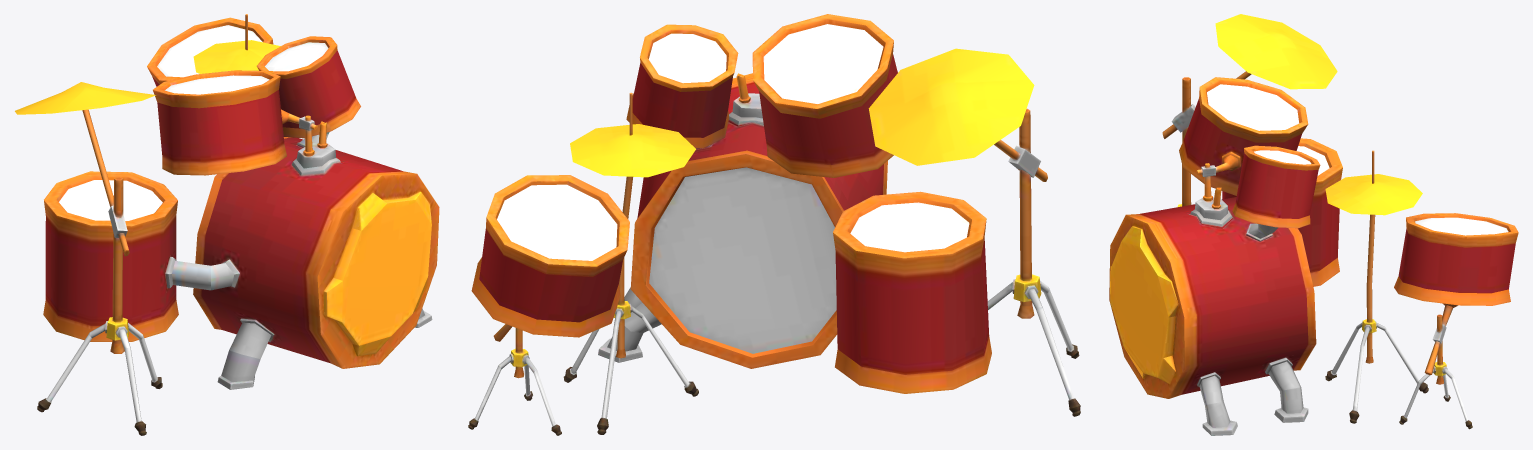
Rendered from obj_drums01_base.gltf.
The picture shows the model from 3 angles, left to right: view 1: azimuth 30°, elevation 25°; view 2: azimuth 150°, elevation 25°; view 3: azimuth 270°, elevation 25°; orthographic projection. The views are drawn at different scales.
Visible parts, largest first — view 1: obj_drums01_base; view 2: obj_drums01_base; view 3: obj_drums01_base.
Part boxes in pixels (x1,y1,x2,y2): obj_drums01_base: (15, 14, 439, 435); obj_drums01_base: (468, 14, 1080, 435); obj_drums01_base: (1109, 14, 1518, 435).
Size of what is drawn, in the model's own units: 2.24 by 1.61 by 2.22.
Materials: 1 (1 with a texture image).
